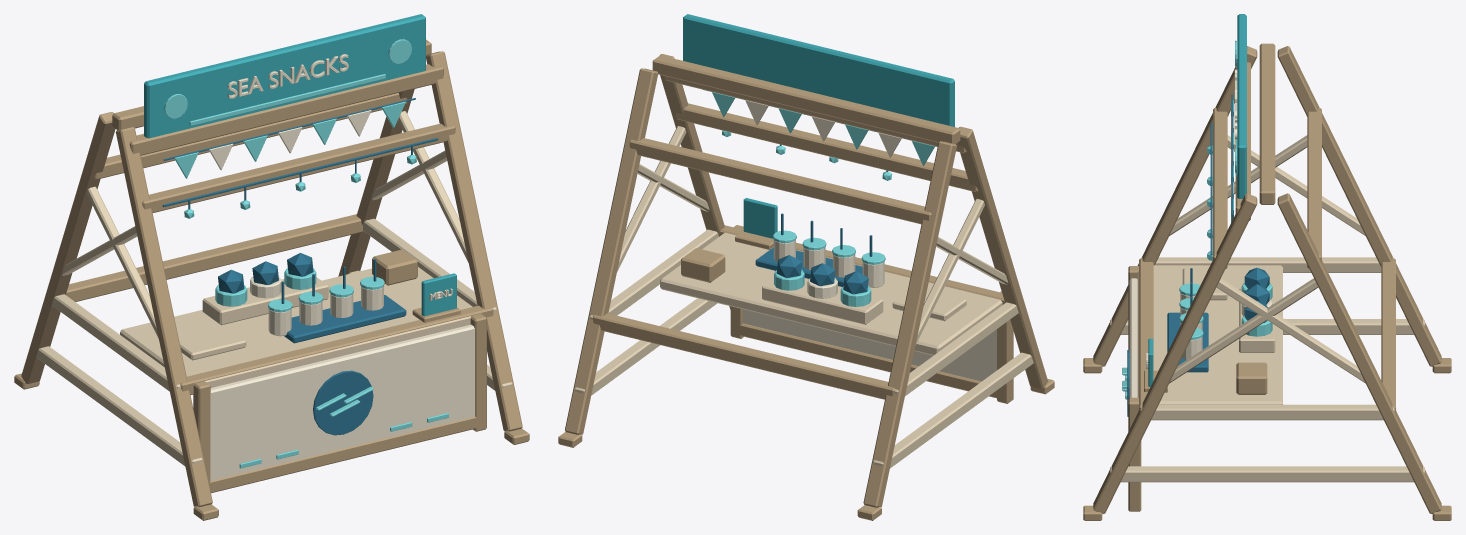
Rendered from food_booth_s3.glb.
The picture shows the model from 3 angles, left to right: view 1: azimuth 30°, elevation 25°; view 2: azimuth 150°, elevation 25°; view 3: azimuth 270°, elevation 25°; orthographic projection. The views are drawn at different scales.
Visible parts, largest first — view 1: Tutorial_CanopyBooth_s3; view 2: Tutorial_CanopyBooth_s3; view 3: Tutorial_CanopyBooth_s3.
Part boxes in pixels (x1=…): Tutorial_CanopyBooth_s3: x1=14, y1=14, x2=529, y2=520; Tutorial_CanopyBooth_s3: x1=558, y1=14, x2=1054, y2=520; Tutorial_CanopyBooth_s3: x1=1083, y1=14, x2=1451, y2=520.
Size of the model in its own units: 4.27 by 4.65 by 4.27.
